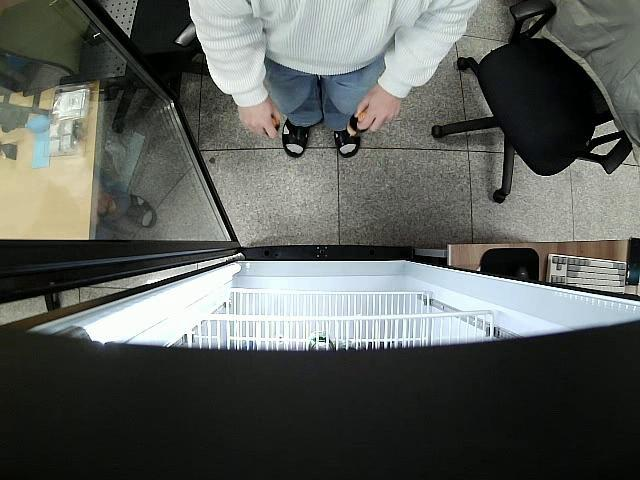17_vita500: (346, 108, 369, 137), (265, 116, 282, 136)
